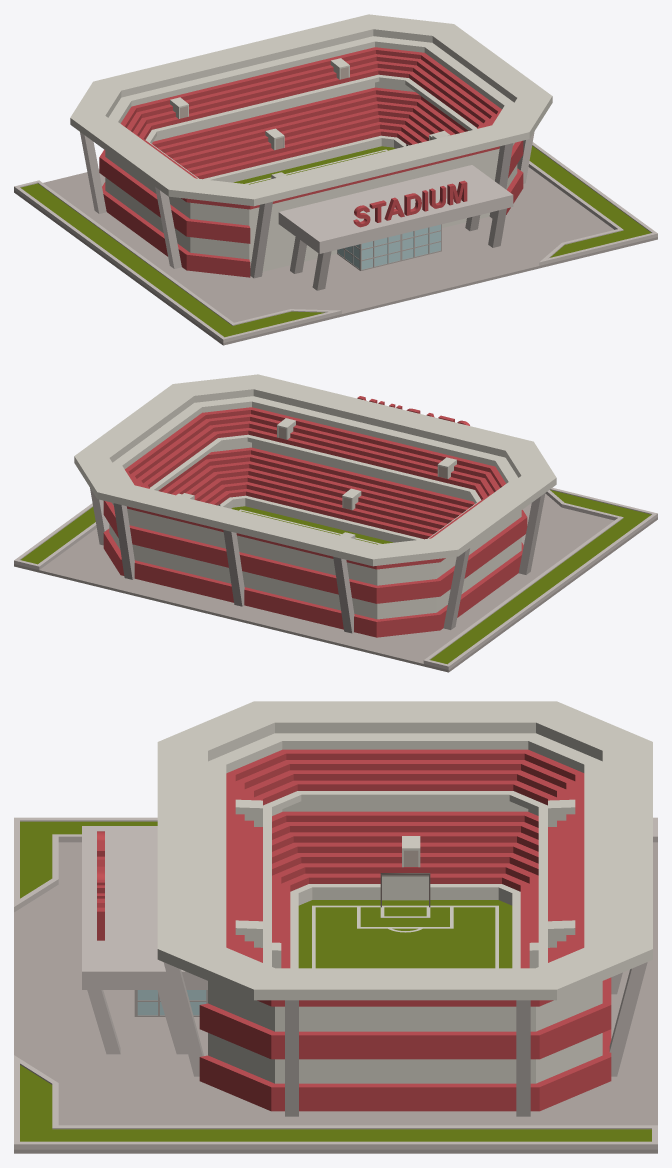
The model's file is hansol-stadium.gltf.
3 renders of one model, top to bottom at view 1: azimuth 30°, elevation 25°; view 2: azimuth 150°, elevation 25°; view 3: azimuth 270°, elevation 25°, orthographic. The views are drawn at different scales.
Parts seen in each view (by area): view 1: stadium; view 2: stadium; view 3: stadium.
Part boxes in pixels (<box>): stadium: <box>14,14,657,345</box>; stadium: <box>14,374,657,672</box>; stadium: <box>14,701,657,1153</box>.
Bounding box in the file's own units: 0.04 × 0.00818 × 0.0333.
8 materials, 8 textured.
